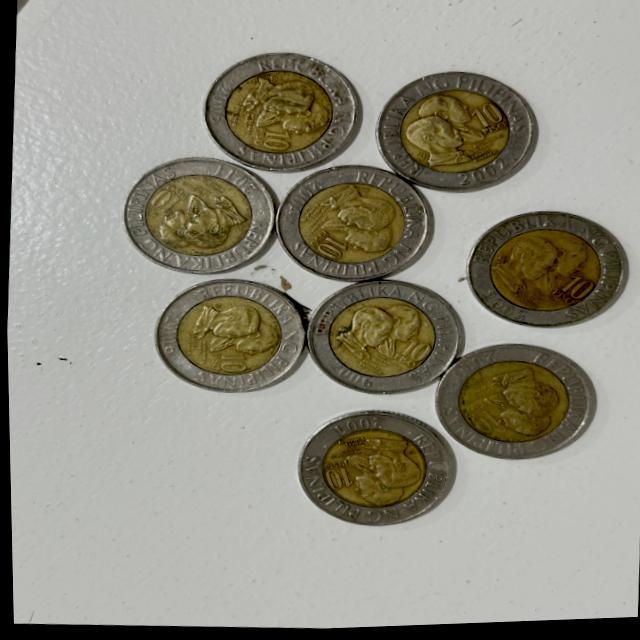10_Old_Front: (543, 276, 598, 312), (460, 403, 507, 441), (470, 102, 512, 143), (307, 228, 353, 265), (313, 455, 355, 495), (246, 123, 299, 153), (147, 179, 189, 216), (207, 348, 254, 381), (395, 338, 432, 373)
